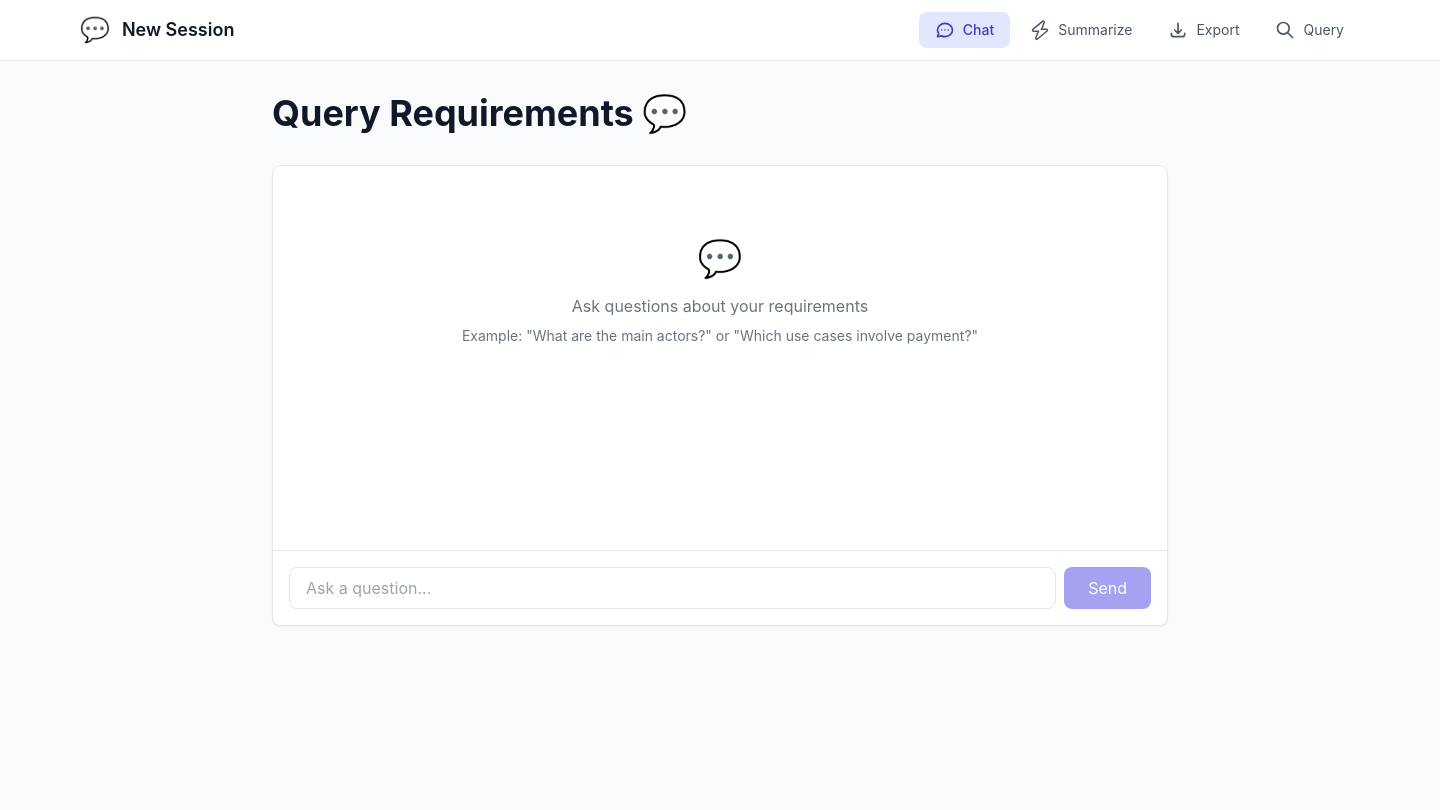
Query Component › Conversation Display › displays relevant use cases when provided
Type "Test" into the field with placeholder "Ask a question..." at (673,588), box left=289, top=567, right=1056, bottom=609
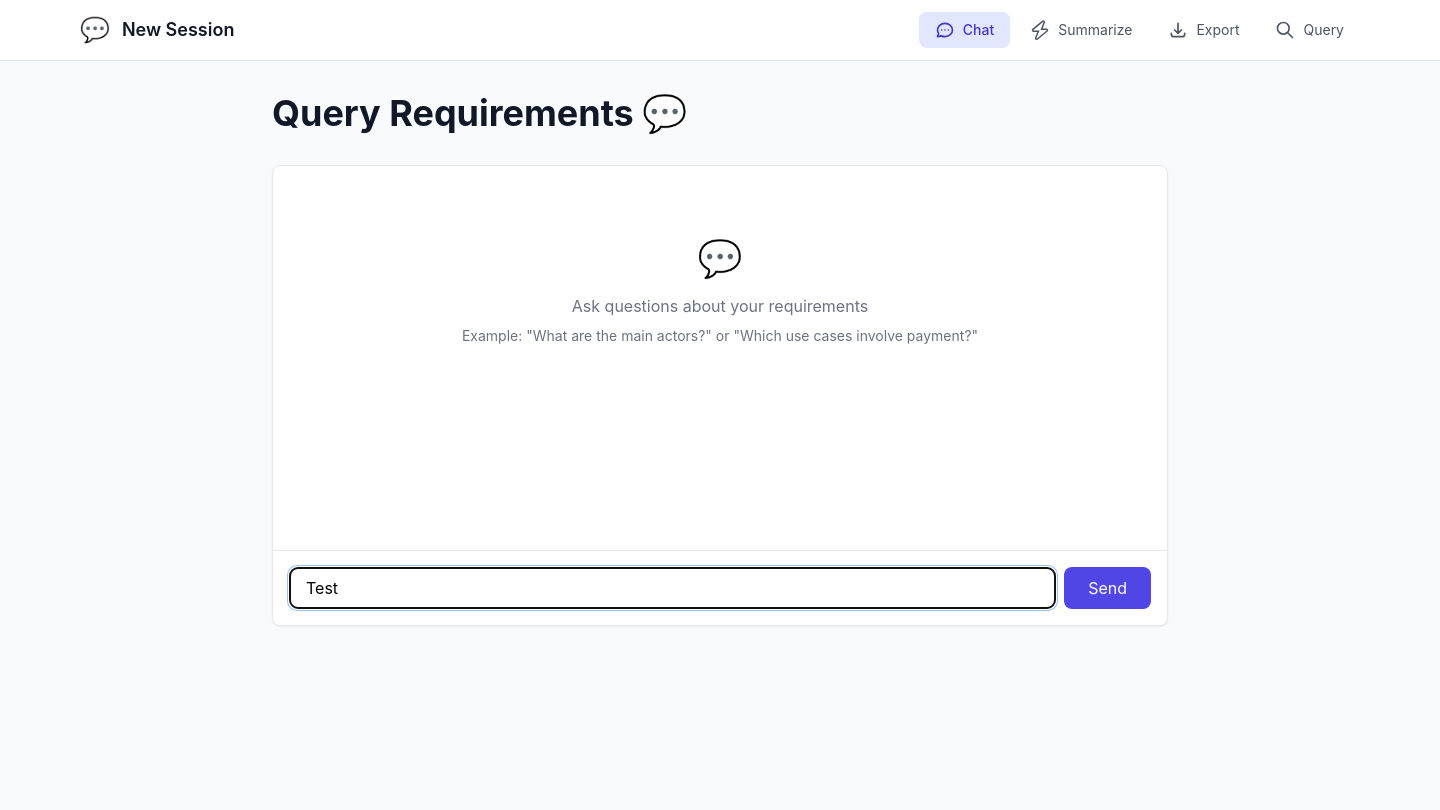
Click the button "Send" at (1108,588), box left=1064, top=567, right=1151, bottom=609
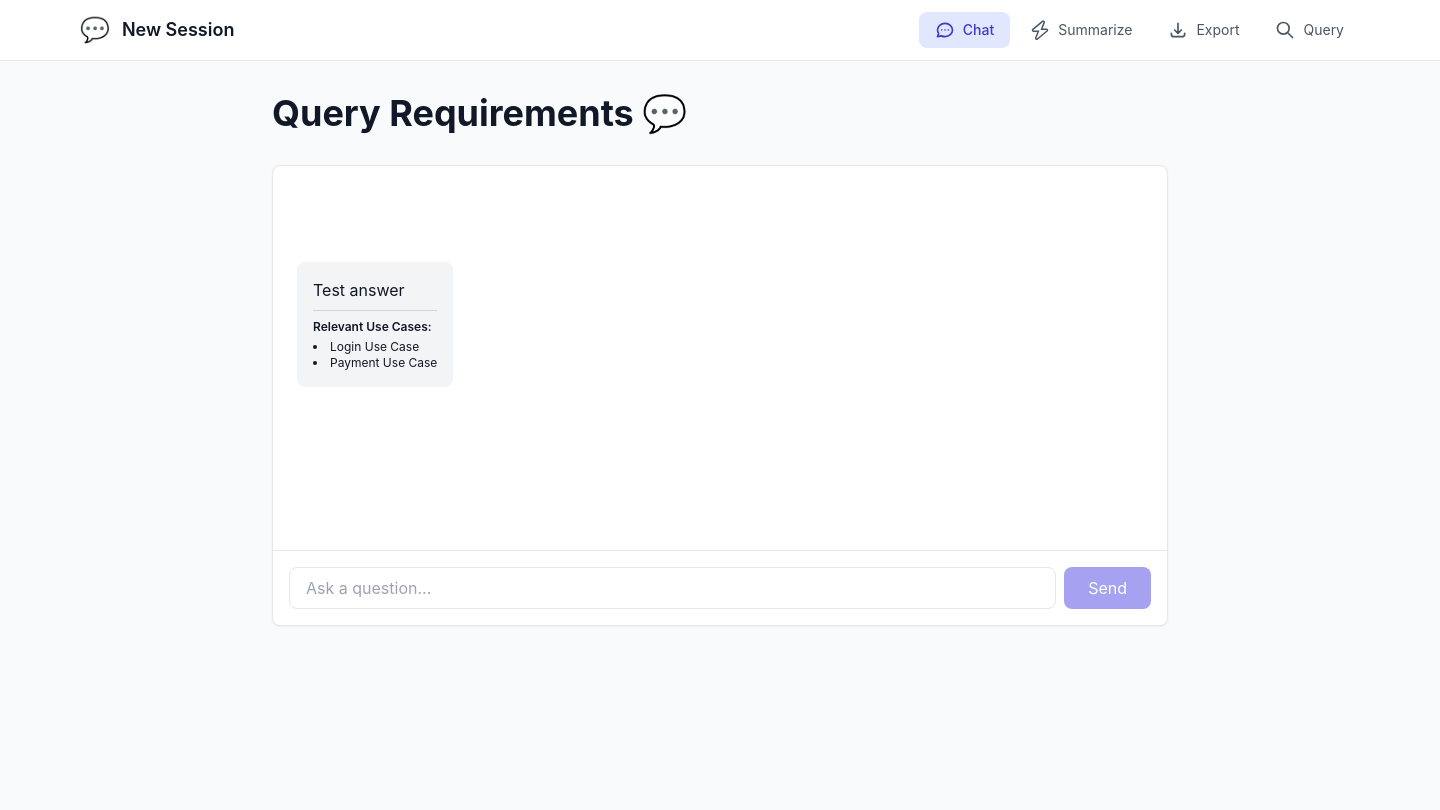
Result: the text "Relevant Use Cases:" is shown at left=313, top=319, right=437, bottom=335
Result: the list item "Login Use Case" is shown at left=330, top=339, right=419, bottom=354
Result: the list item "Payment Use Case" is shown at left=313, top=355, right=437, bottom=371
